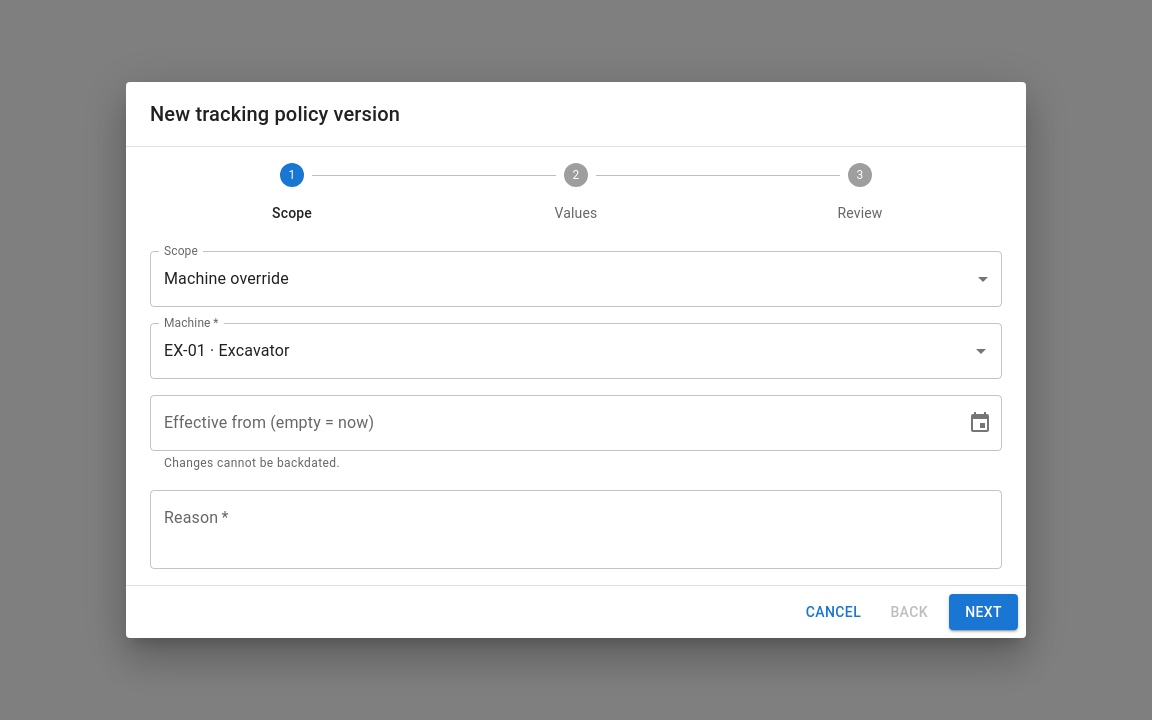
Test case: PolicyOverrideDialog › offers only machine-overridable fields for a MACHINE override
Type "Night shift tuning" into the text box labelled "Reason *" at {"x": 576, "y": 529}, box [164,506,988,552]
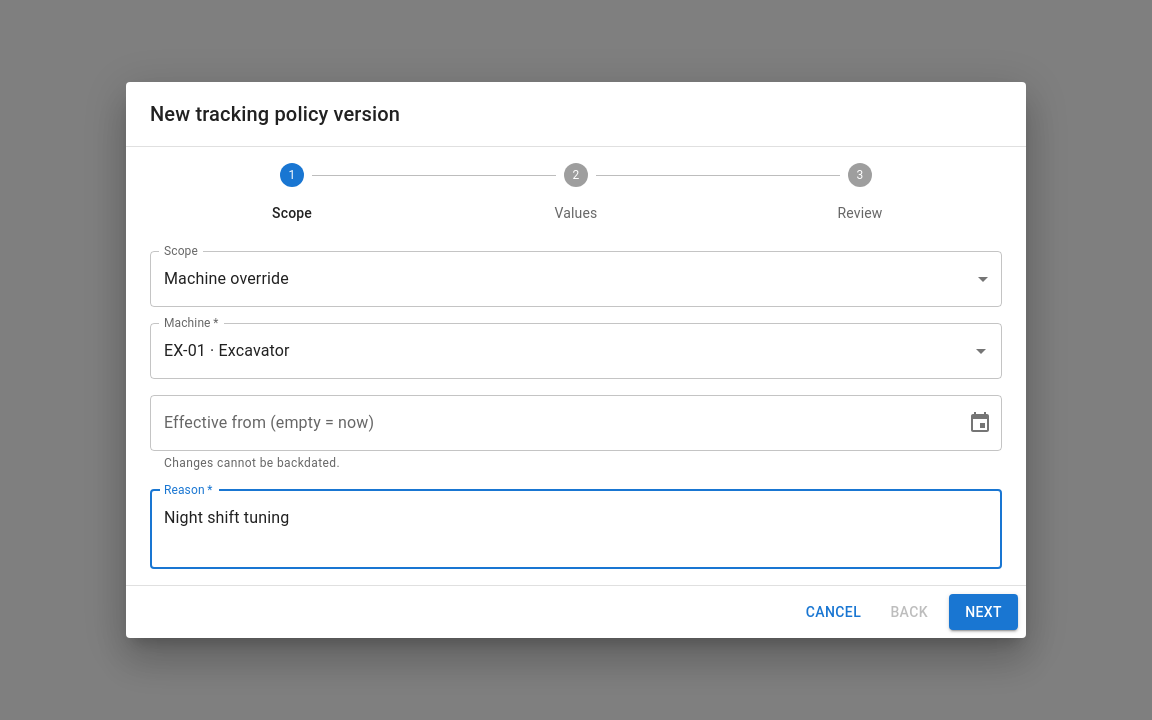
Click the button "Next" at {"x": 984, "y": 612}, box [949,594,1018,630]
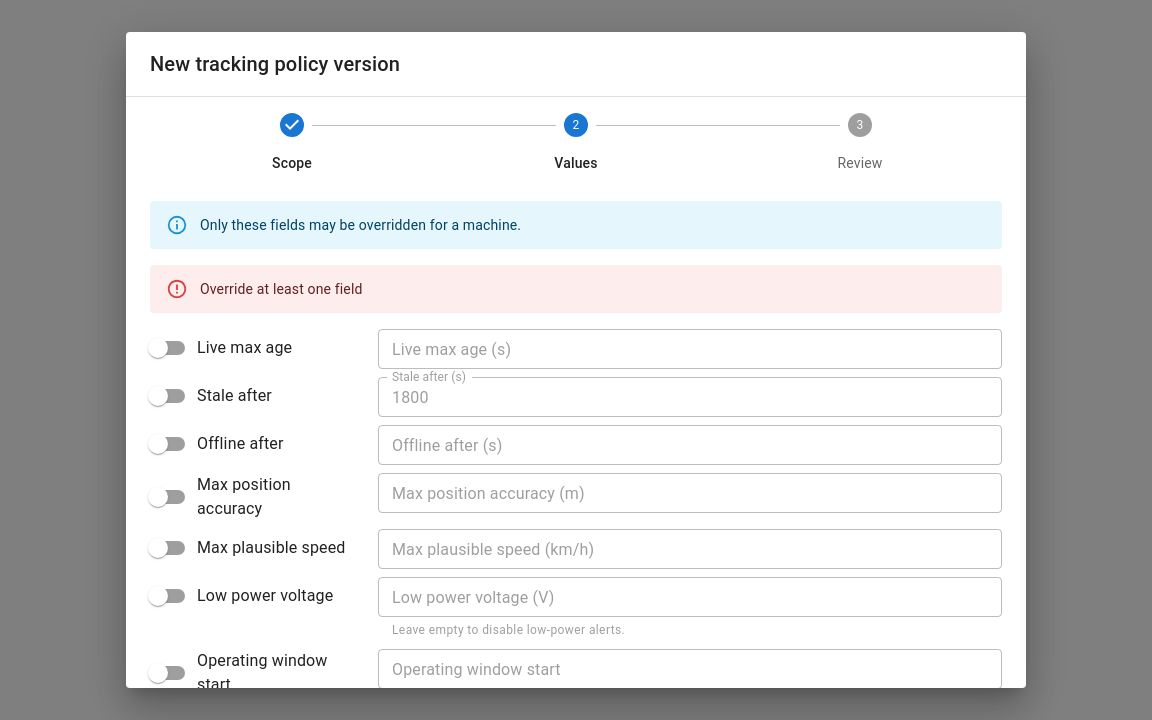
expect the switch named "Override Live max age" is shown: met, box [148,338,292,358]
expect the switch named "Override Low power voltage" is shown: met, box [148,586,333,606]
